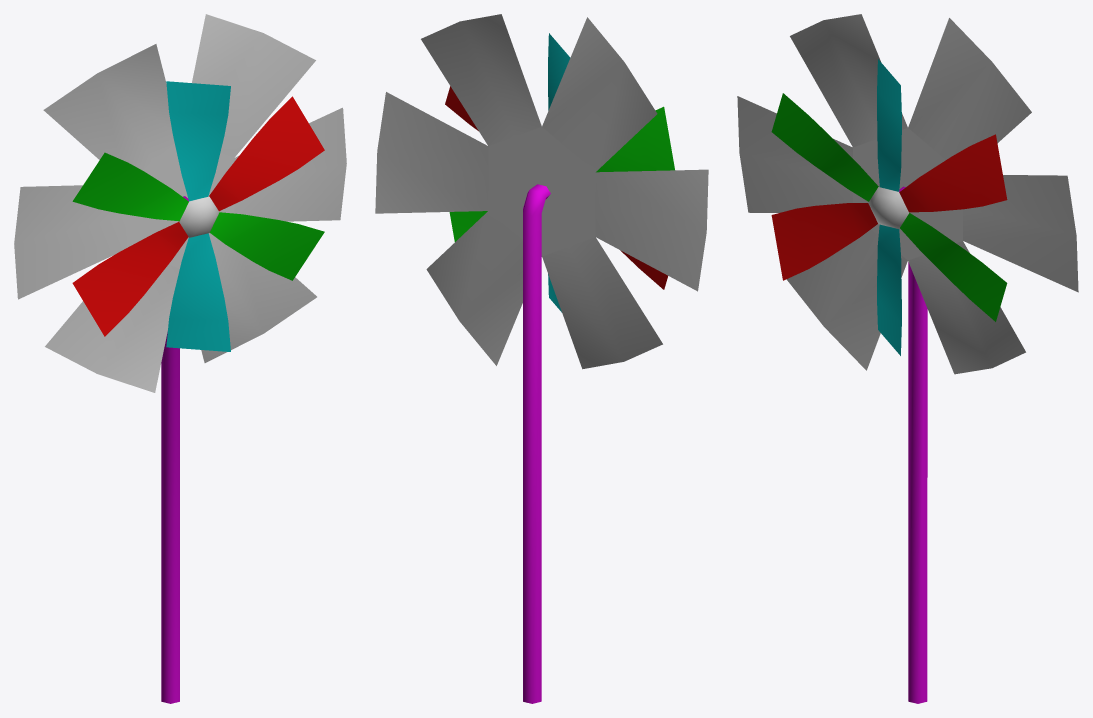
Rendered from F_Windmill002.fbx.
The picture shows the model from 3 angles, left to right: view 1: azimuth 30°, elevation 25°; view 2: azimuth 150°, elevation 25°; view 3: azimuth 330°, elevation 25°; orthographic projection. The views are drawn at different scales.
Visible parts, largest first — view 1: Plane012, Plane013, Cylinder083; view 2: Plane012, Cylinder083, Plane013; view 3: Plane012, Plane013, Cylinder083.
Boxes of the visible parts, x1=… form: Plane012: x1=14, y1=14, x2=346, y2=392; Plane013: x1=72, y1=81, x2=324, y2=351; Cylinder083: x1=161, y1=196, x2=219, y2=703; Plane012: x1=375, y1=14, x2=708, y2=369; Cylinder083: x1=523, y1=184, x2=550, y2=703; Plane013: x1=445, y1=33, x2=674, y2=312; Plane012: x1=737, y1=14, x2=1078, y2=374; Plane013: x1=771, y1=59, x2=1007, y2=355; Cylinder083: x1=868, y1=186, x2=927, y2=703.
Size of the model in its own units: 47.13 by 92.17 by 10.63.
